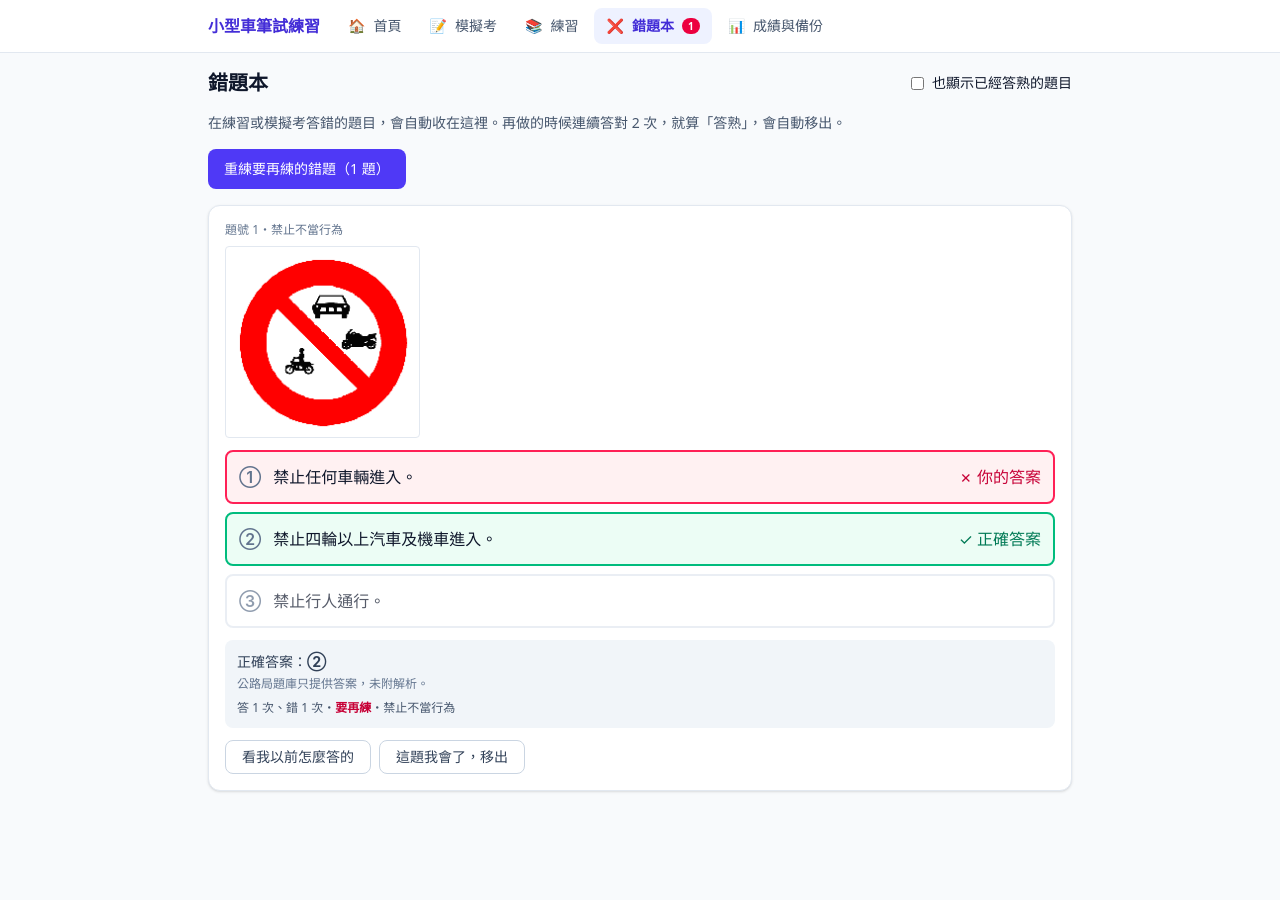
Scenario: 錯題本與歷史 › 錯題本列出答錯的題目並可展開答題紀錄、移出
This screenshot has width=1280, height=900.
Check: the text "題號 1・禁止不當行為" is shown, box top-left (225, 221), bottom-right (343, 238)
Click the button "看我以前怎麼答的" at (298, 757), box top-left (225, 740), bottom-right (371, 774)
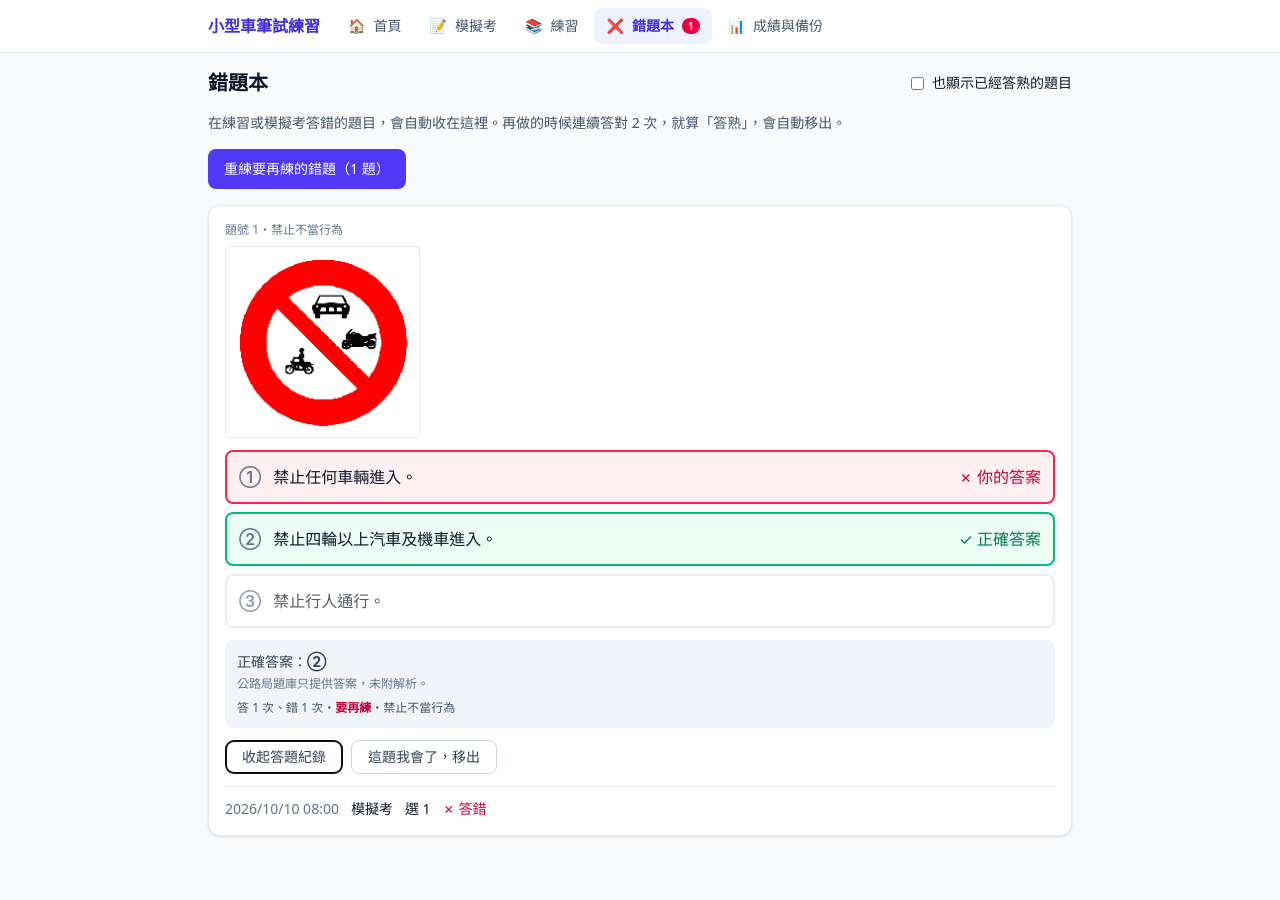
Check: the text "✗ 答錯" is shown, box top-left (443, 799), bottom-right (487, 819)
Click the button "這題我會了，移出" at (424, 757), box top-left (351, 740), bottom-right (497, 774)
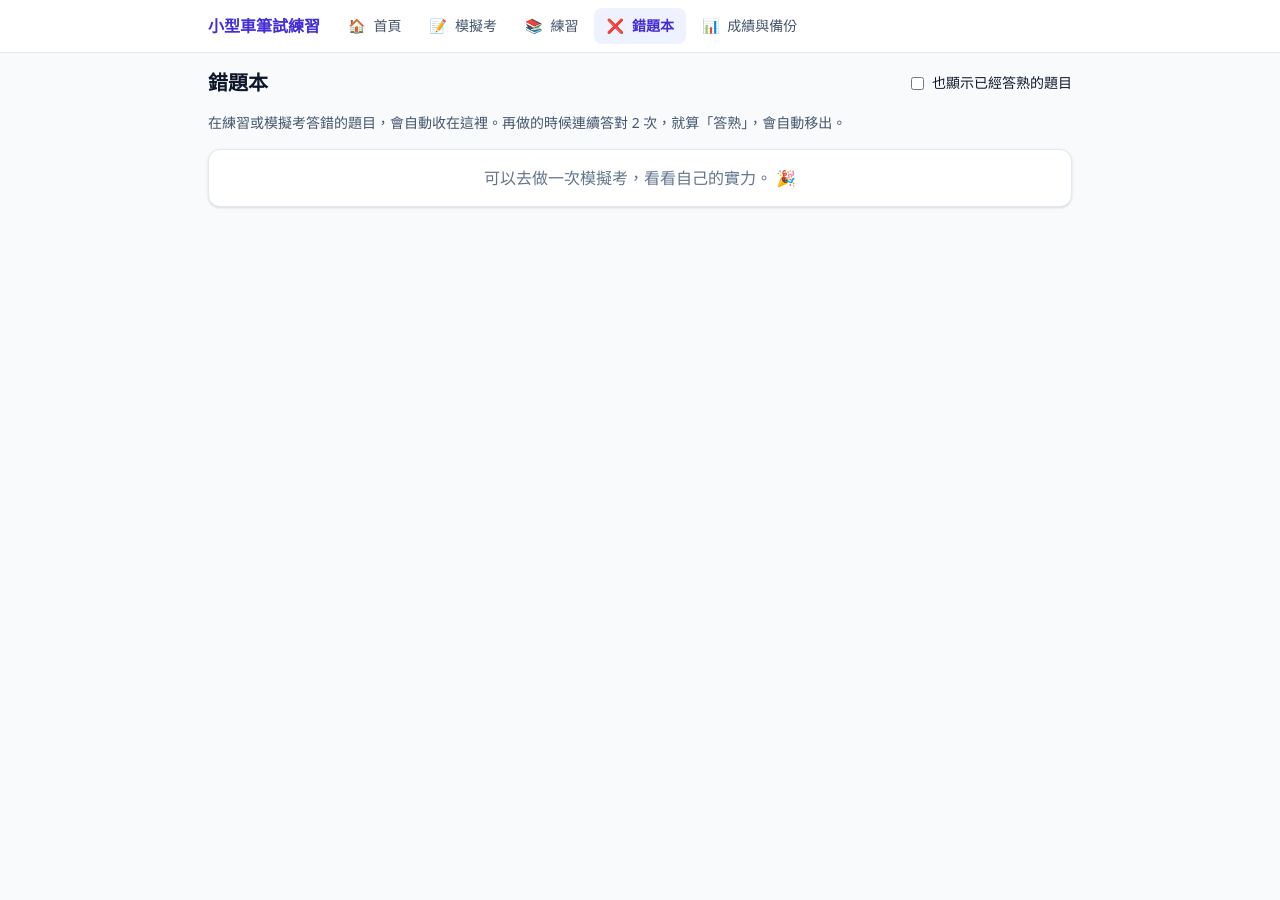
Check: the text "可以去做一次模擬考，看看自己的實力。 🎉" is shown, box top-left (208, 149), bottom-right (1072, 207)
